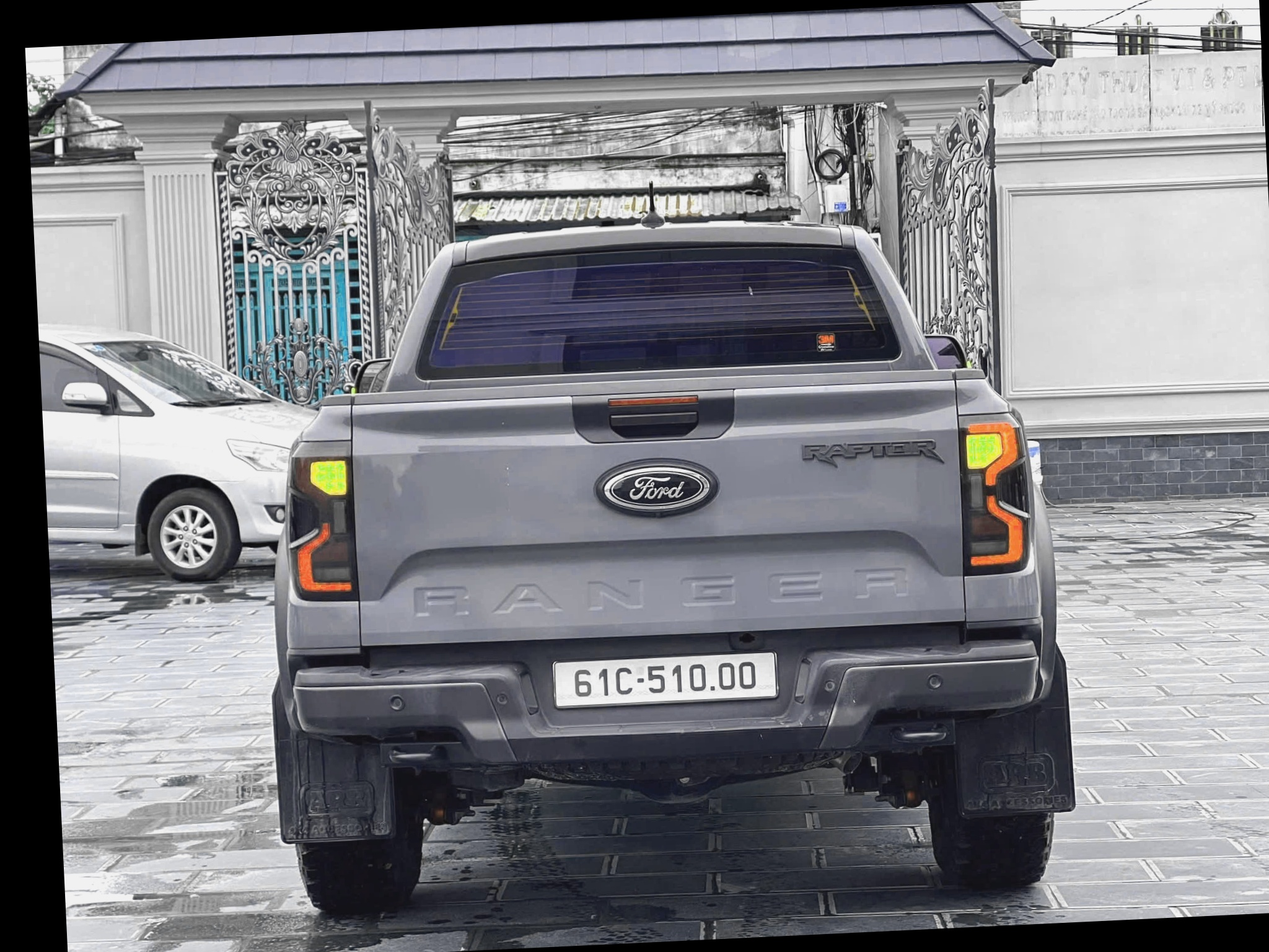Bien-so: (514, 657, 756, 719)
